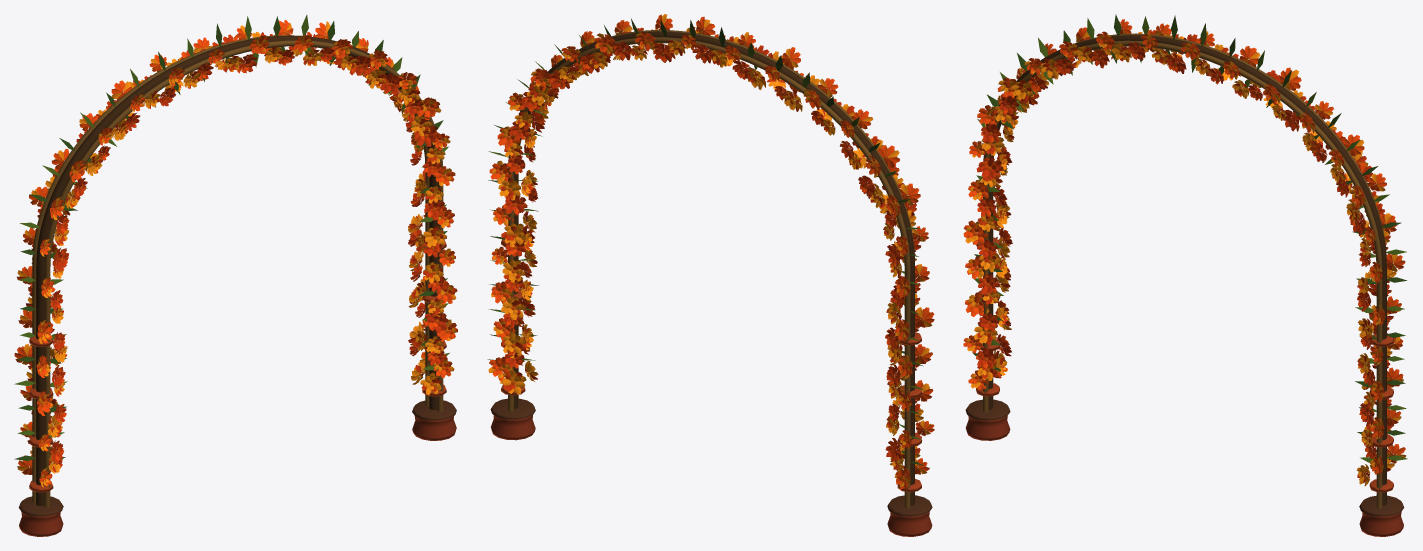
Rendered from arco_floral.obj.
3 views of the same model, side by side, from view 1: azimuth 30°, elevation 25°; view 2: azimuth 150°, elevation 25°; view 3: azimuth 330°, elevation 25° (orthographic).
Visible parts, largest first — view 1: arco_floral; view 2: arco_floral; view 3: arco_floral.
Boxes of the visible parts, x1=… form: arco_floral: x1=14, y1=14, x2=457, y2=536; arco_floral: x1=487, y1=14, x2=934, y2=536; arco_floral: x1=963, y1=14, x2=1407, y2=536.
Size of the model in its own units: 5.99 by 5.99 by 0.5903.
